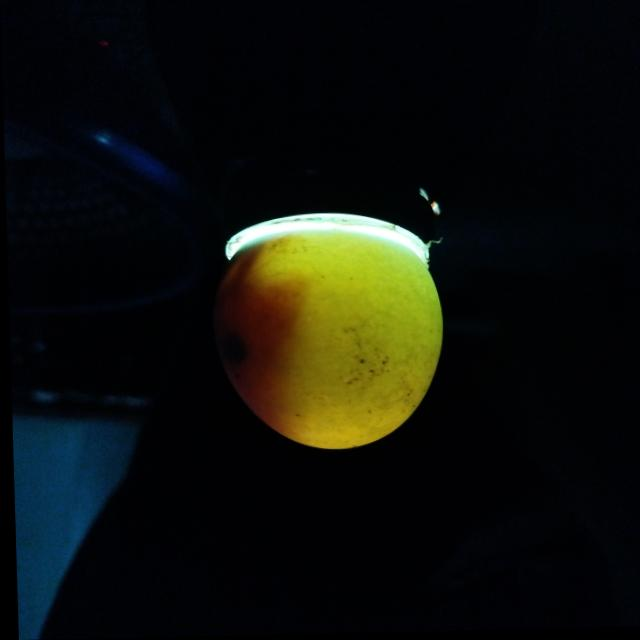Area Infectada: (206, 247, 260, 389)
